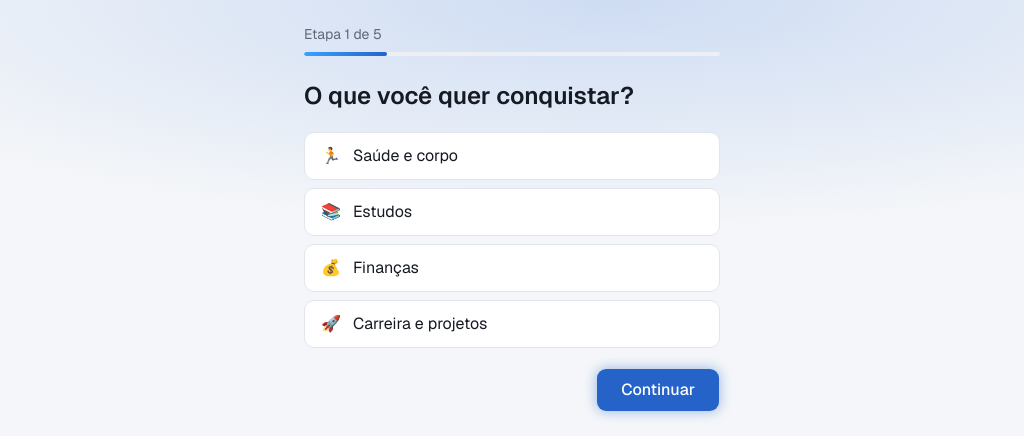
Test: OnboardingQuiz › resets the foco options when the area changes after going back
The width and height of the screenshot is (1024, 436).
Click the radio button labelled "Saúde e corpo": click(405, 156) [304, 132, 720, 180]
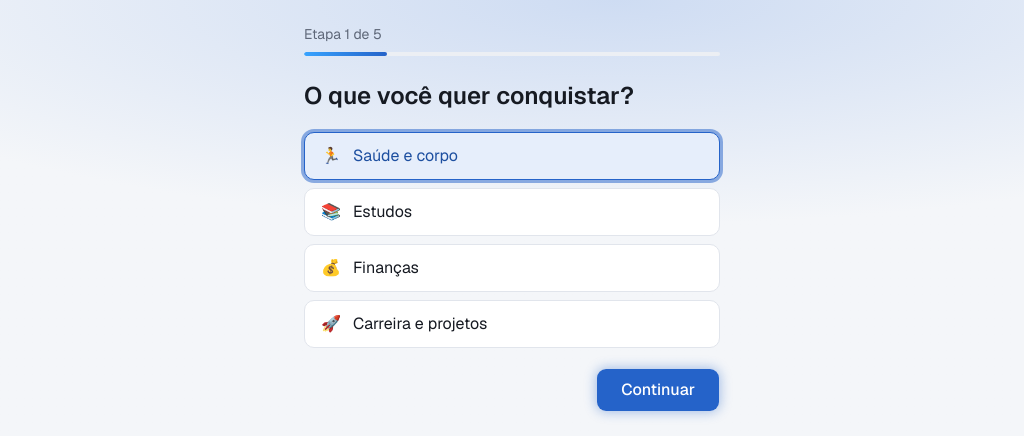
Click the button "Continuar": click(658, 390) [596, 368, 720, 412]
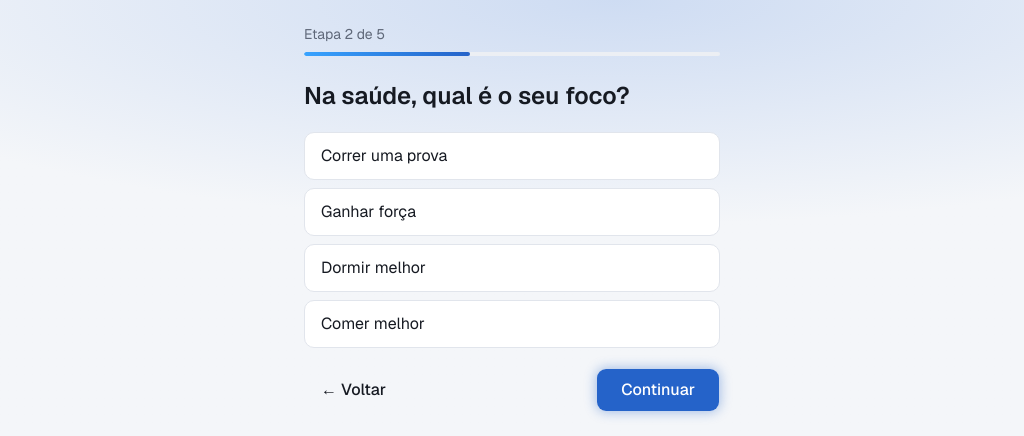
Click the radio button labelled "Correr uma prova": click(384, 156) [304, 132, 720, 180]
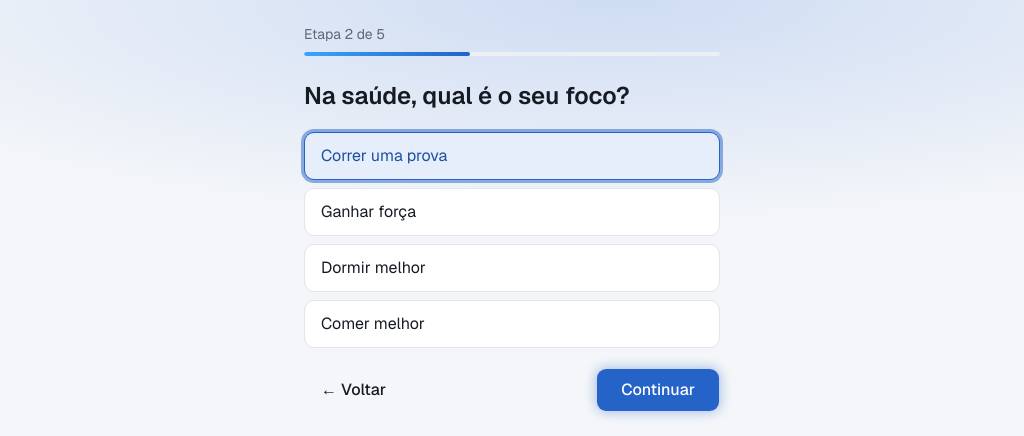
Click the button "← Voltar": click(354, 390) [304, 368, 403, 412]
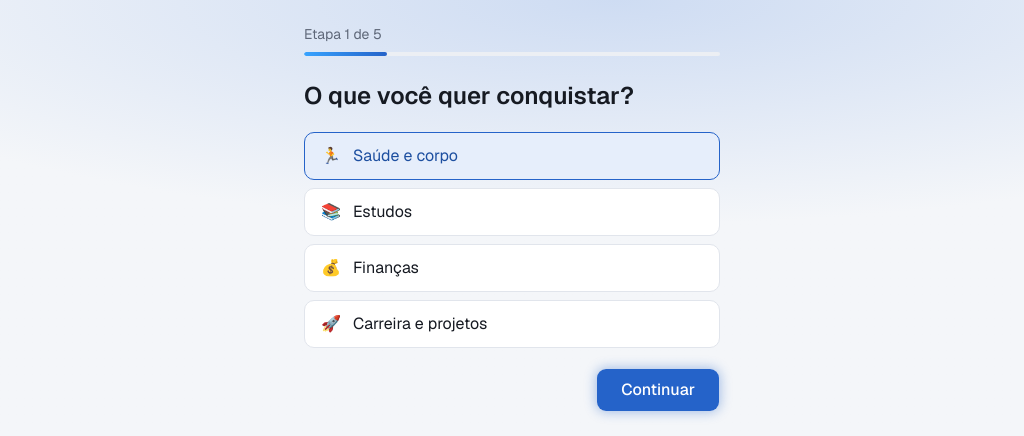
Click the radio button labelled "Estudos": click(383, 212) [304, 188, 720, 236]
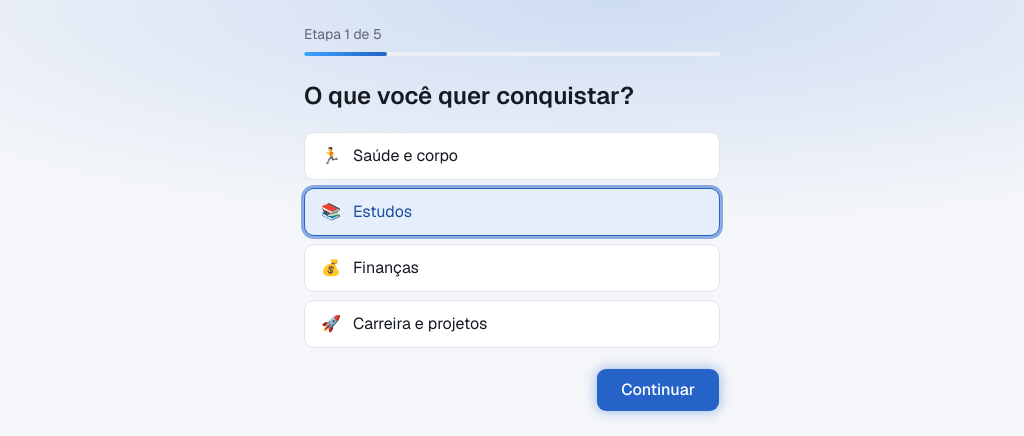
Click the button "Continuar": click(658, 390) [596, 368, 720, 412]
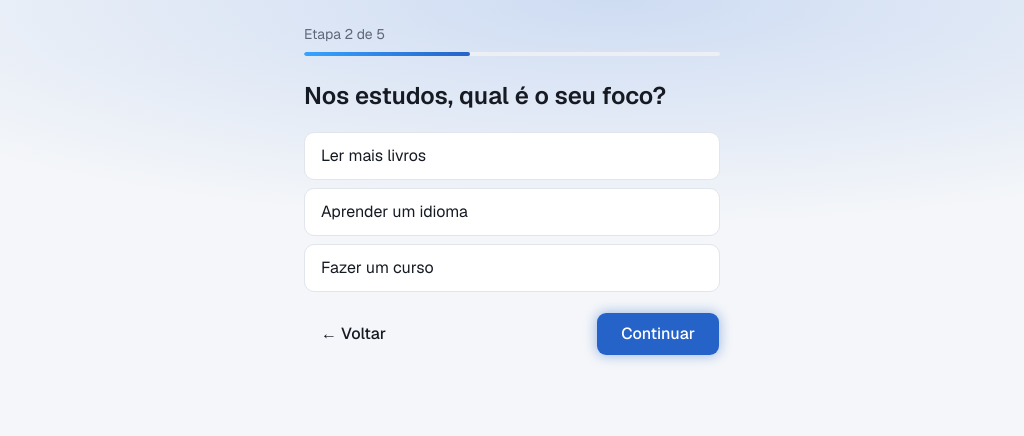
Now the heading "Nos estudos, qual é o seu foco?" is shown, box [304, 80, 720, 112]
Now the radio buttons read "Ler mais livros", "Aprender um idioma", "Fazer um curso", in this order, box [304, 132, 720, 180]; [304, 188, 720, 236]; [304, 244, 720, 292]
